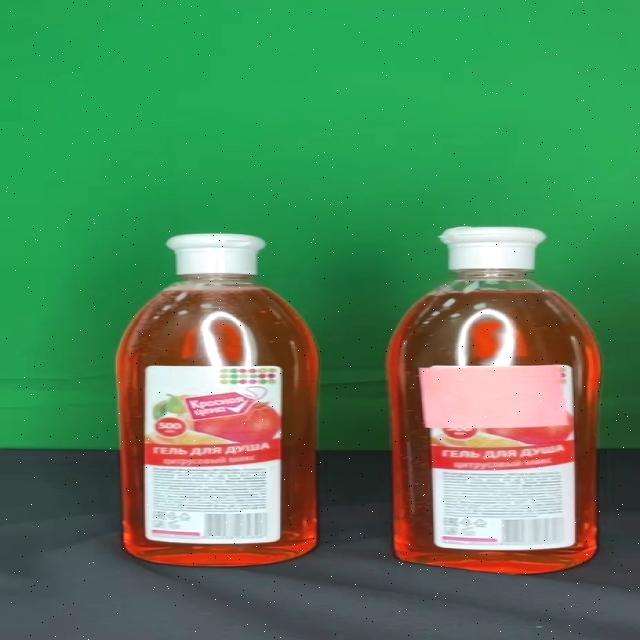Bottle: (388, 227, 602, 576), (115, 234, 322, 566)
Cap: (440, 227, 546, 271), (165, 234, 266, 275)
